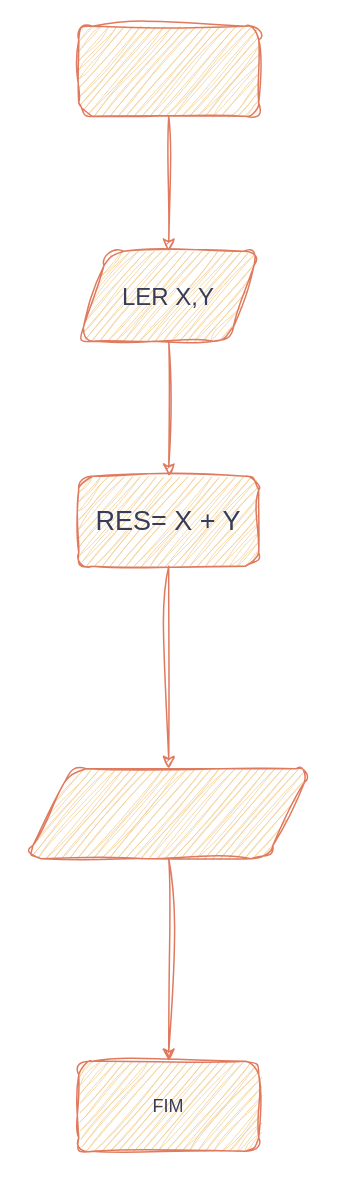
Image size: 338x1178. Some labels were removed from this diagram. The shapes that lost their labels are listed below. From the top down, each one's box as (x1, y1, x2, y2) in pixels, then its label:
(77, 25, 259, 116): ÍNICIO
(25, 767, 311, 859): ESCREVER RES
